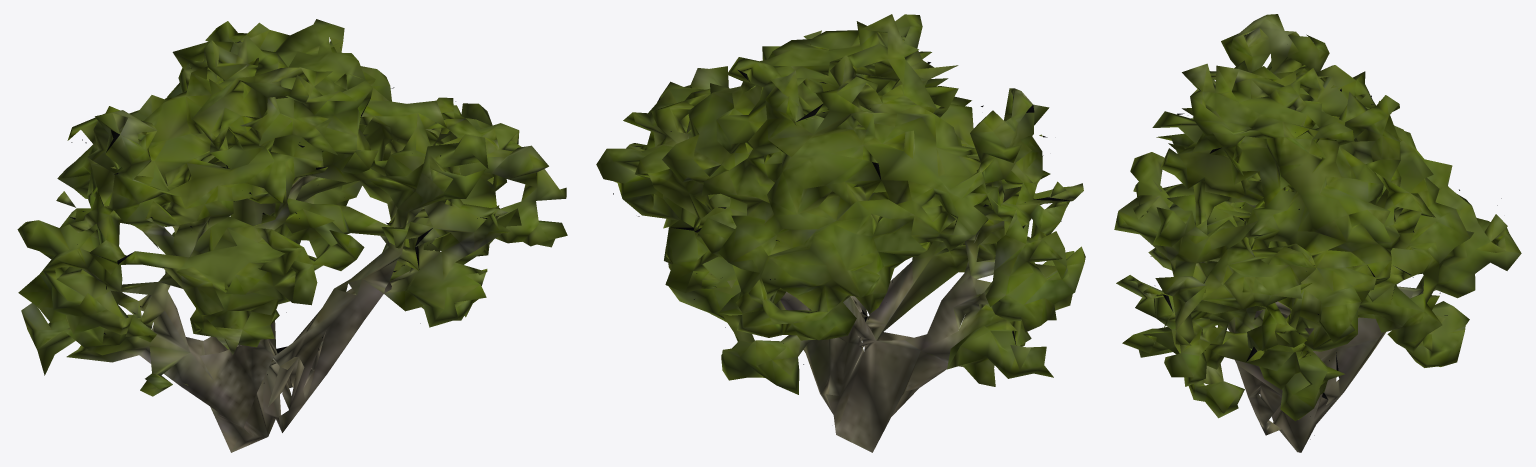
File: env_tree.glb
The picture shows the model from 3 angles, left to right: view 1: azimuth 30°, elevation 25°; view 2: azimuth 150°, elevation 25°; view 3: azimuth 270°, elevation 25°; orthographic projection. The views are drawn at different scales.
Parts seen in each view (by area): view 1: Mesh_0.001; view 2: Mesh_0.001; view 3: Mesh_0.001.
Boxes of the visible parts, box(x1,y1,x2,y2) form: Mesh_0.001: box(17, 19, 567, 452); Mesh_0.001: box(596, 14, 1085, 452); Mesh_0.001: box(1114, 14, 1521, 452).
Size of the model in its own units: 9.6 by 7.92 by 7.49.
1 material, 1 textured.
